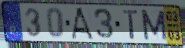0: (45, 6, 66, 40)
3: (92, 8, 115, 41), (23, 7, 42, 39)
A: (70, 6, 96, 41)
M: (139, 9, 169, 42)
T: (122, 9, 140, 41)
